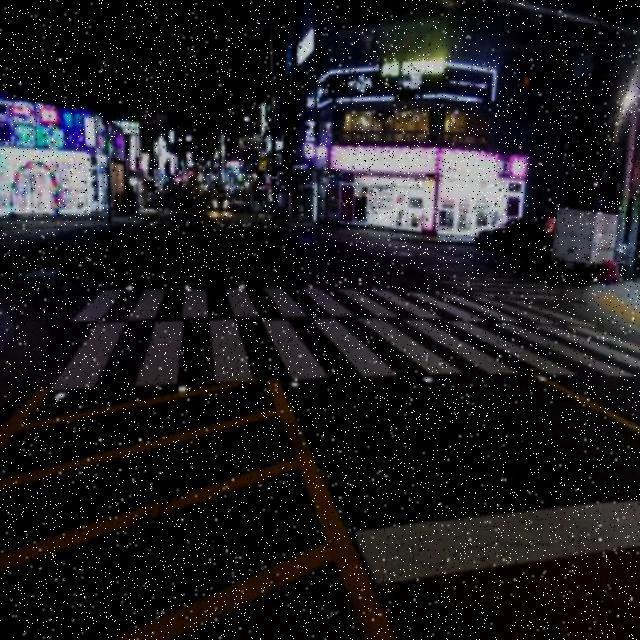Pedestrian crosswalk: (46, 293, 612, 399), (317, 233, 554, 302)
